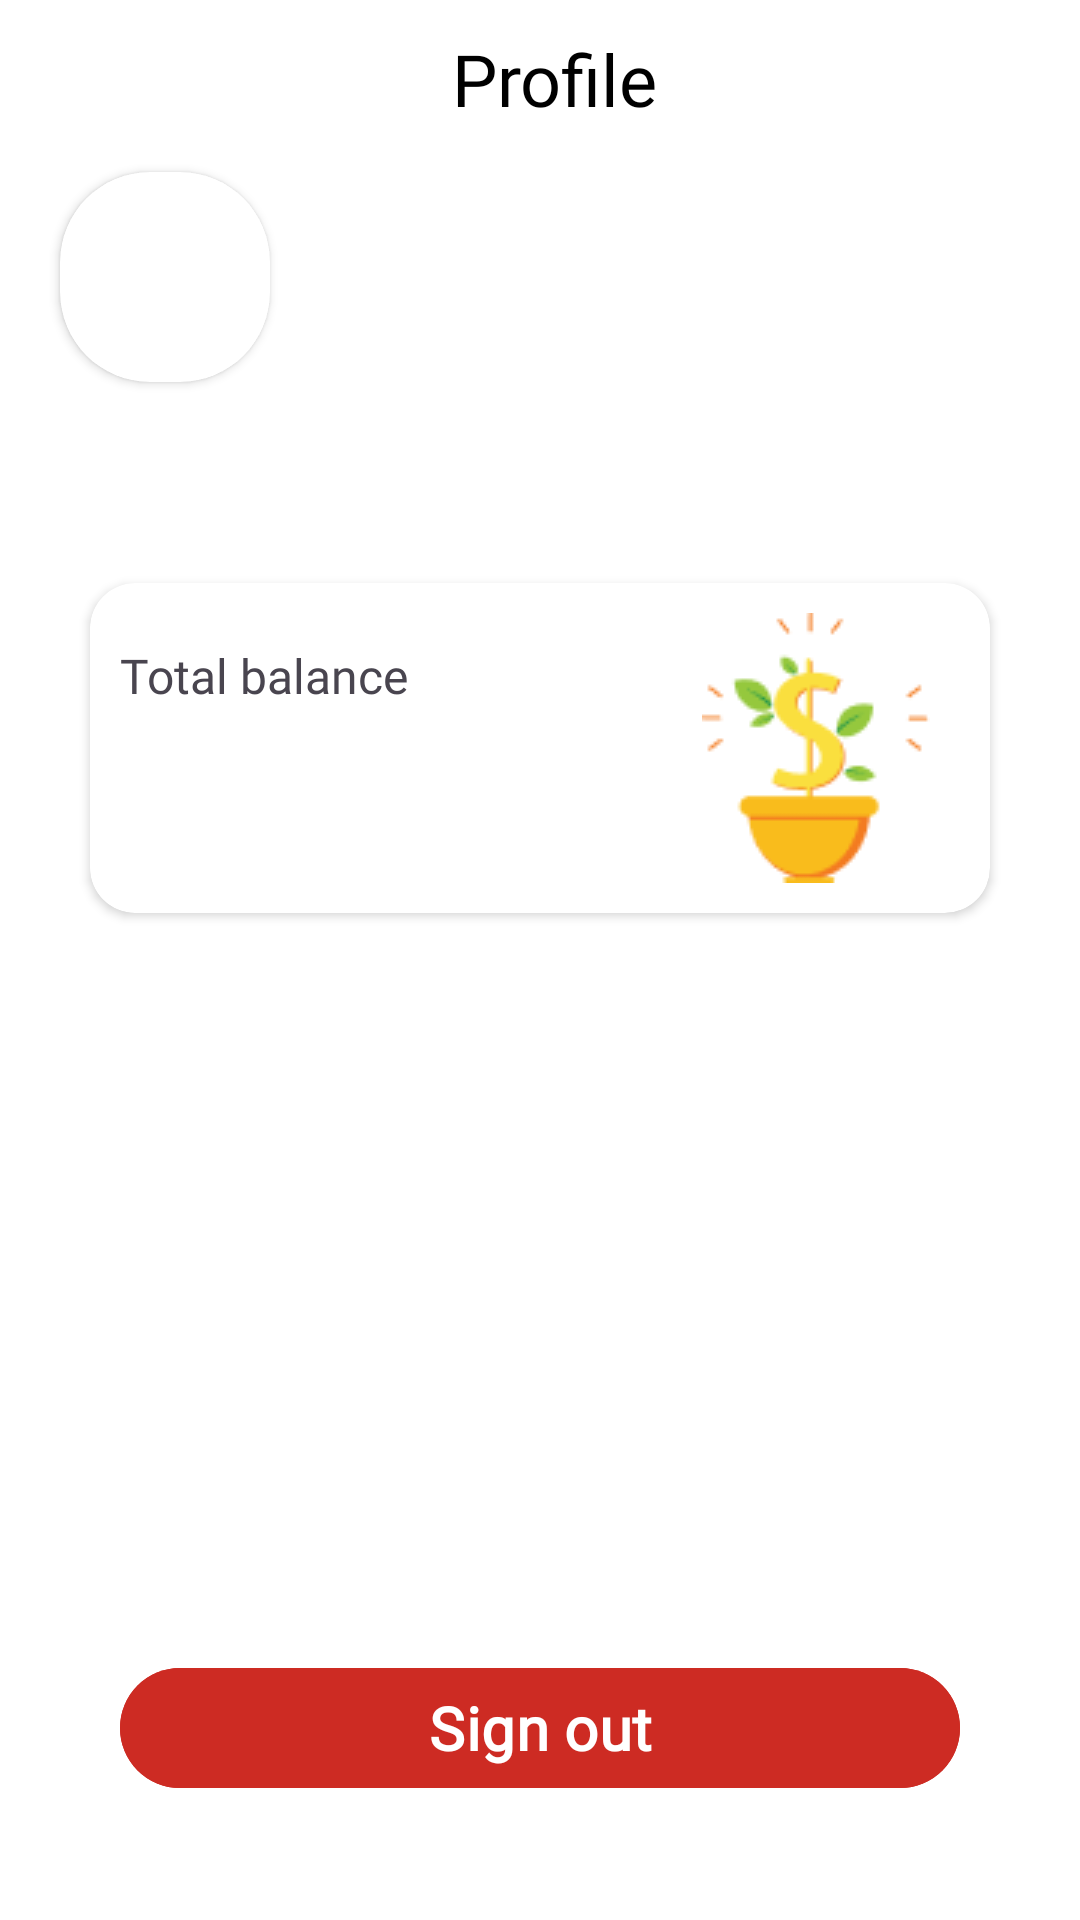

Icon click points for this 1080px×1920px phone screenshot, format (x,y):
money tree: (815,748)
